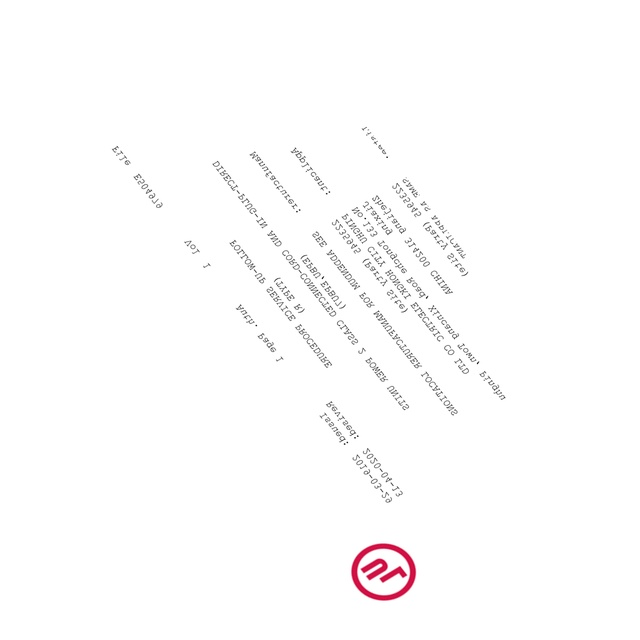ul: (348, 542, 420, 603)
